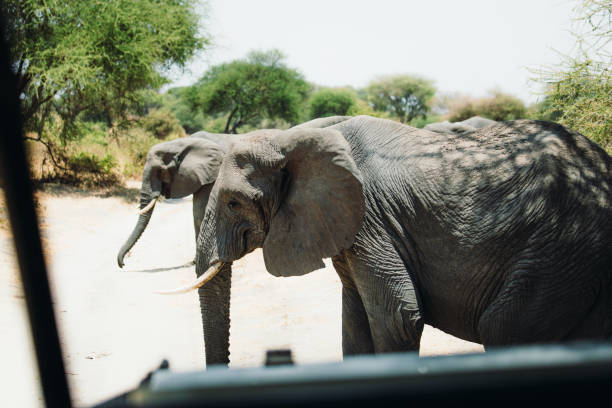africanelephant: (188, 106, 320, 295)
